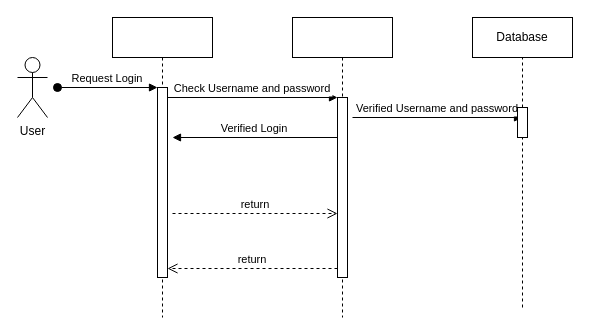
Some shapes in this 590 by 335 pixel diagram are drawn without their labels. Each missing label, with the box of its shape:
Controller: (292, 16, 392, 318)
Mobile app: (112, 16, 212, 318)
